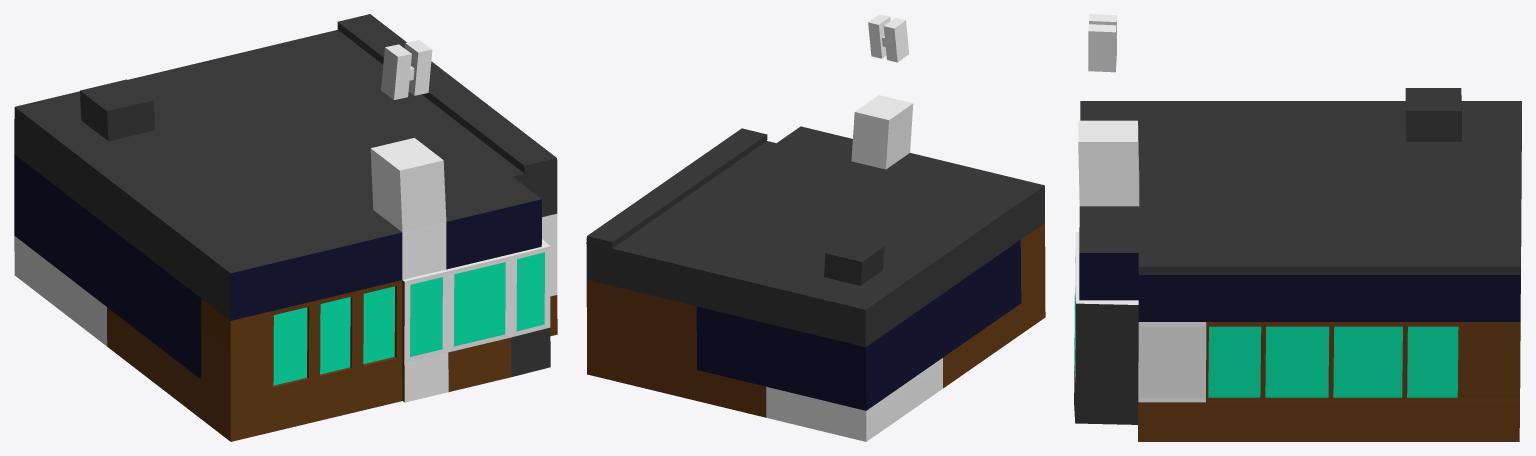
File: MOD_Bell.FBX
3 views of the same model, side by side, from view 1: azimuth 30°, elevation 25°; view 2: azimuth 150°, elevation 25°; view 3: azimuth 270°, elevation 25° (orthographic). The views are drawn at different scales.
Visible parts, largest first — view 1: bell, H; view 2: bell, H; view 3: bell, H.
Part boxes in pixels (box(x1,y1,x2,y2)): bell: box(14, 14, 557, 441); H: box(381, 40, 432, 99); bell: box(586, 95, 1045, 441); H: box(868, 14, 909, 62); bell: box(1074, 88, 1521, 441); H: box(1088, 14, 1116, 72).
Bounding box in the file's own units: 73.94 × 66.53 × 79.69.
